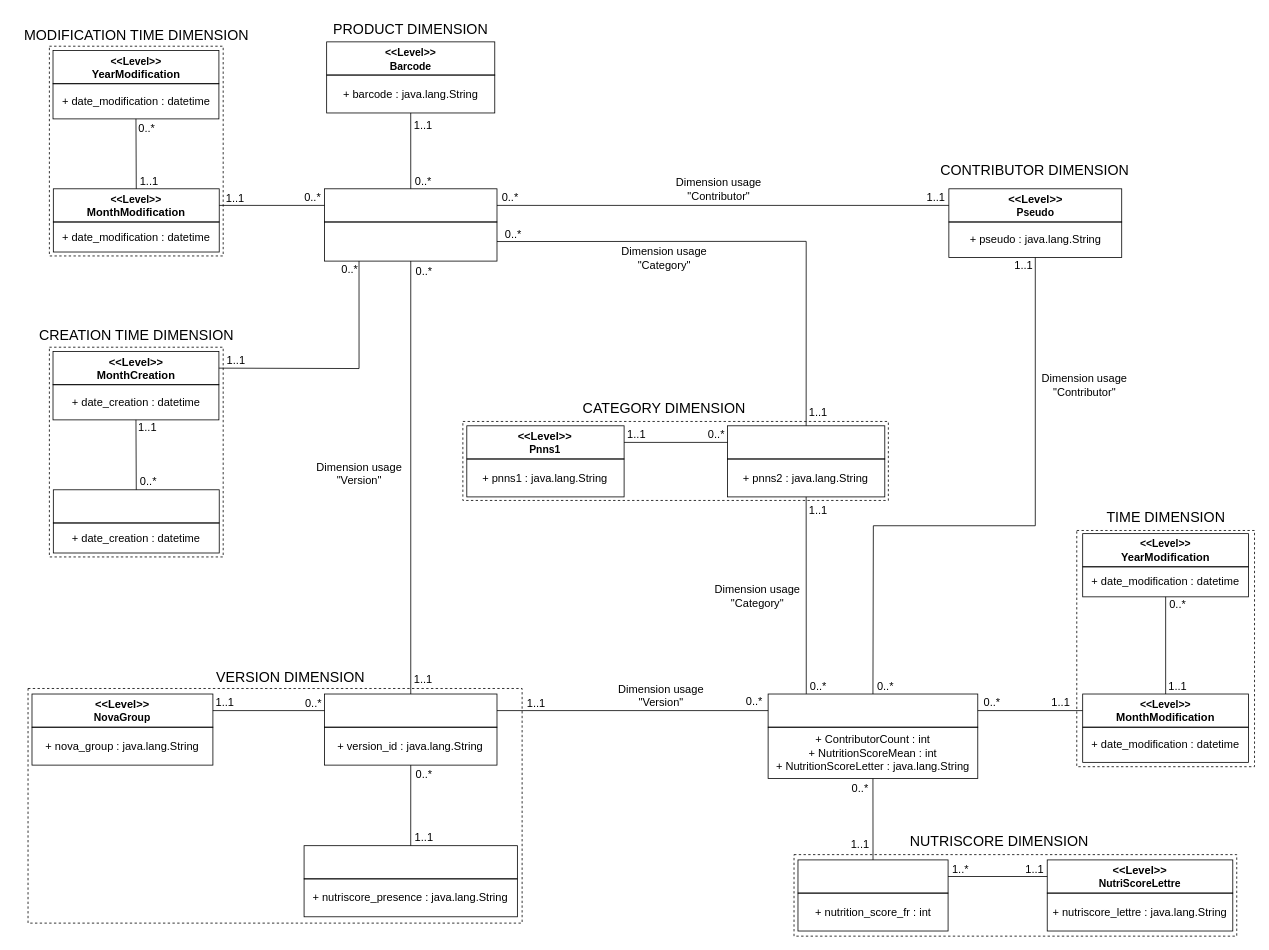
Image size: 1269x950. Some labels were removed from this diagram. Each missing label, with the centre of its shape:
"+ ProductCount : int + VersionCount : int" belongs at [410,241].
"<<Cube>> OpenFoodFactsCube1" belongs at [410,205].
"<<Cube>> OpenFoodFactsCube2" belongs at [872,710].
"<<Level>> NutriScorePresence" belongs at [410,862].
"<<Level>> NutritionScoreFR" belongs at [872,876].
"<<Level>> Pnns2" belongs at [806,442].
"<<Level>> Product Version" belongs at [410,710].
"<<Level>> YearCreation" belongs at [136,506].
